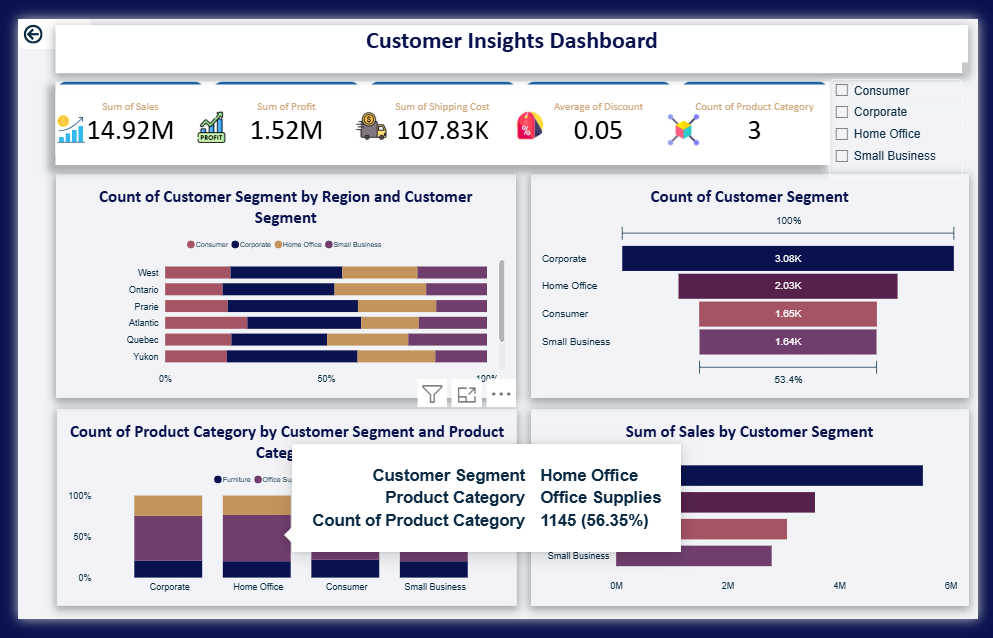

This screenshot's page, from the dashboard's own definition file:
{"tool":"powerbi","page":{"name":"Customers","canvas":[1280,800],"ordinal":3},"visuals":[{"type":"actionButton","box":[0,0,100,40],"z":0},{"type":"cardVisual","fields":{"Data":["Sum(Final Data.Sales)","Sum(Final Data.Profit)","Sum(Final Data.Shipping Cost)","Avg(Final Data.Discount)","Count(Final Data.Product Category)"]},"box":[49.6,83.1,1032.2,111.3],"z":1000},{"type":"funnel","title":"Count of  Customer Segment","fields":{"Category":["Final Data.Customer Segment"],"Y":["CountNonNull(Final Data.Customer Segment)"]},"box":[683.4,206.5,584.2,298.9],"z":2000},{"type":"clusteredBarChart","fields":{"Category":["Final Data.Customer Segment"],"Y":["Sum(Final Data.Sales)"]},"box":[683.4,520.4,584.2,262.2],"z":3000},{"type":"hundredPercentStackedBarChart","fields":{"Category":["Final Data.Region"],"Y":["CountNonNull(Final Data.Customer Segment)"],"Series":["Final Data.Customer Segment"]},"box":[50.3,206.5,614.1,298.9],"z":4000},{"type":"hundredPercentStackedColumnChart","fields":{"Category":["Final Data.Customer Segment"],"Y":["CountNonNull(Final Data.Product Category)"],"Series":["Final Data.Product Category"]},"box":[50.9,520.1,613.9,262.7],"z":5000},{"type":"textbox","title":"Customer Insights Dashboard","box":[49.6,8,1217.2,64.3],"z":6000},{"type":"slicer","fields":{"Values":["Final Data.Customer Segment"]},"box":[1082.3,80.4,178.1,132.3],"z":7000},{"type":"image","box":[0,111.3,142.2,69.3],"z":8000},{"type":"image","box":[169.5,108.8,175.6,71.7],"z":9000},{"type":"image","box":[399.5,106.4,142.2,71.7],"z":10000},{"type":"image","box":[607.3,108.8,152.1,66.8],"z":11000},{"type":"image","box":[802.7,111.3,168.2,71.7],"z":12000}]}

Visuals, with their boxes in screenshot pixels (x1, y1, x2, y2), scaled from the page's 1280x800 canvas onto the 993x638 screenshot:
actionButton: [0,0,78,32]
cardVisual - Sum(Final Data.Sales) x Sum(Final Data.Profit): [38,66,839,155]
"Count of  Customer Segment" funnel: [530,165,983,403]
clusteredBarChart - Final Data.Customer Segment x Sum(Final Data.Sales): [530,415,983,624]
hundredPercentStackedBarChart - Final Data.Region x CountNonNull(Final Data.Customer Segment): [39,165,515,403]
hundredPercentStackedColumnChart - Final Data.Customer Segment x CountNonNull(Final Data.Product Category): [39,415,516,624]
"Customer Insights Dashboard" textbox: [38,6,983,58]
slicer - Final Data.Customer Segment: [840,64,978,170]
image: [0,89,110,144]
image: [131,87,268,144]
image: [310,85,420,142]
image: [471,87,589,140]
image: [623,89,753,146]
